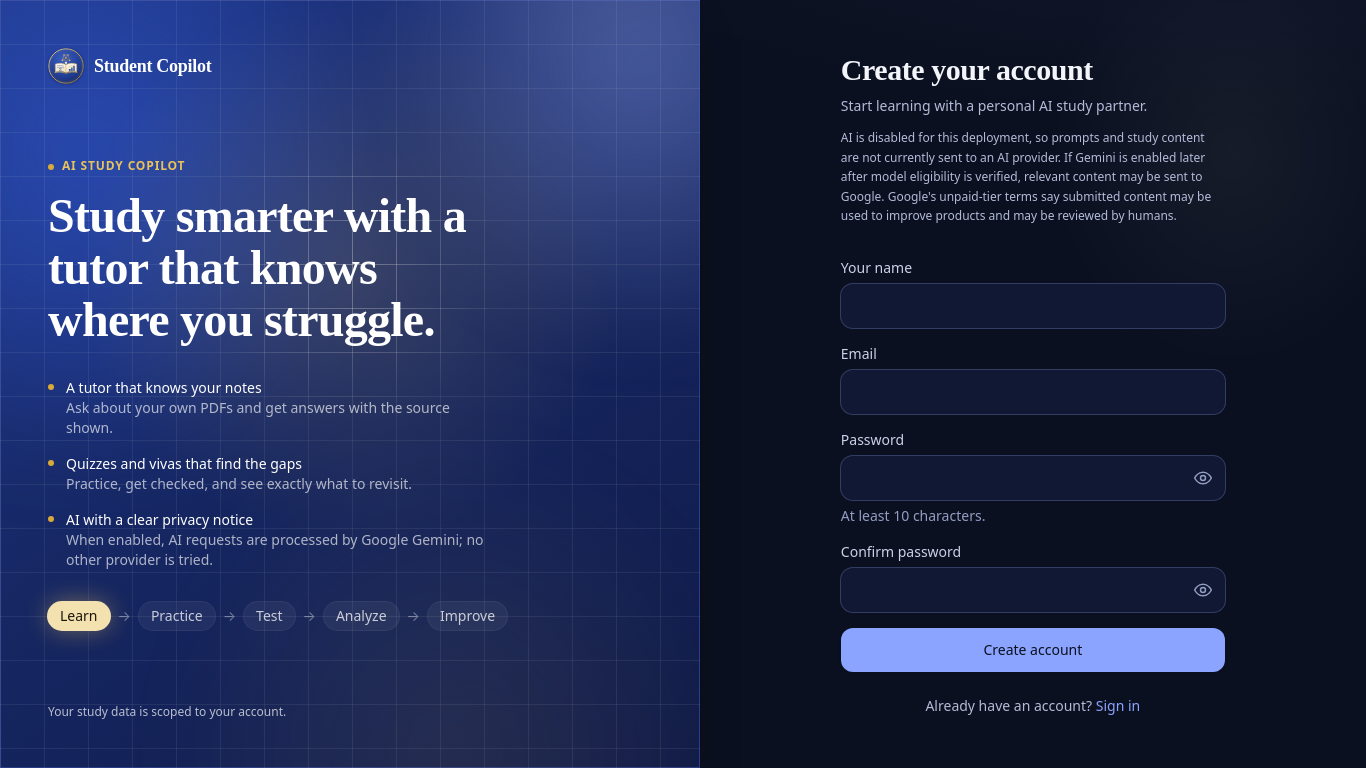
it: signup › rejects short passwords and bad emails client-side
Type "Rahul" into the field labelled "Your name" at (1033, 306), box [841,284,1225,328]
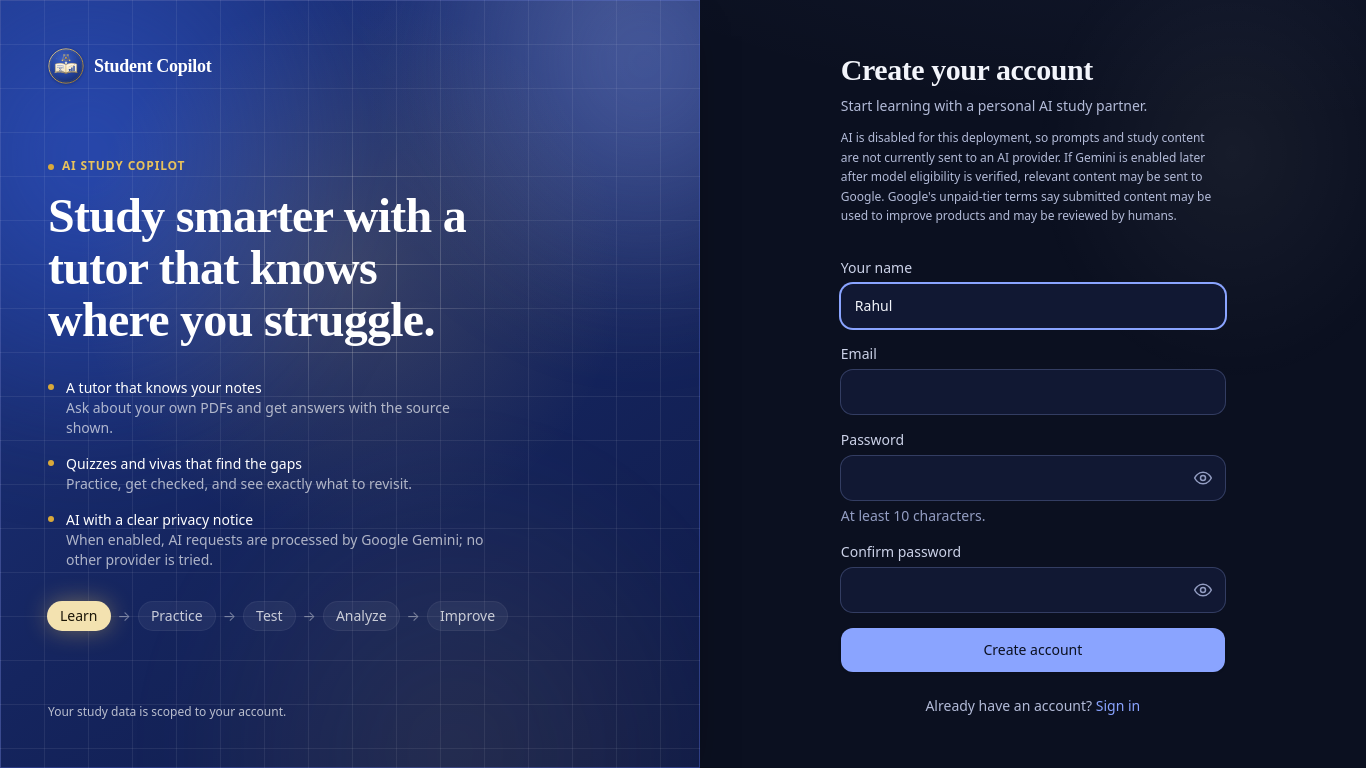
Type "not-an-email" into the field labelled "Email" at (1033, 392), box [841,370,1225,414]
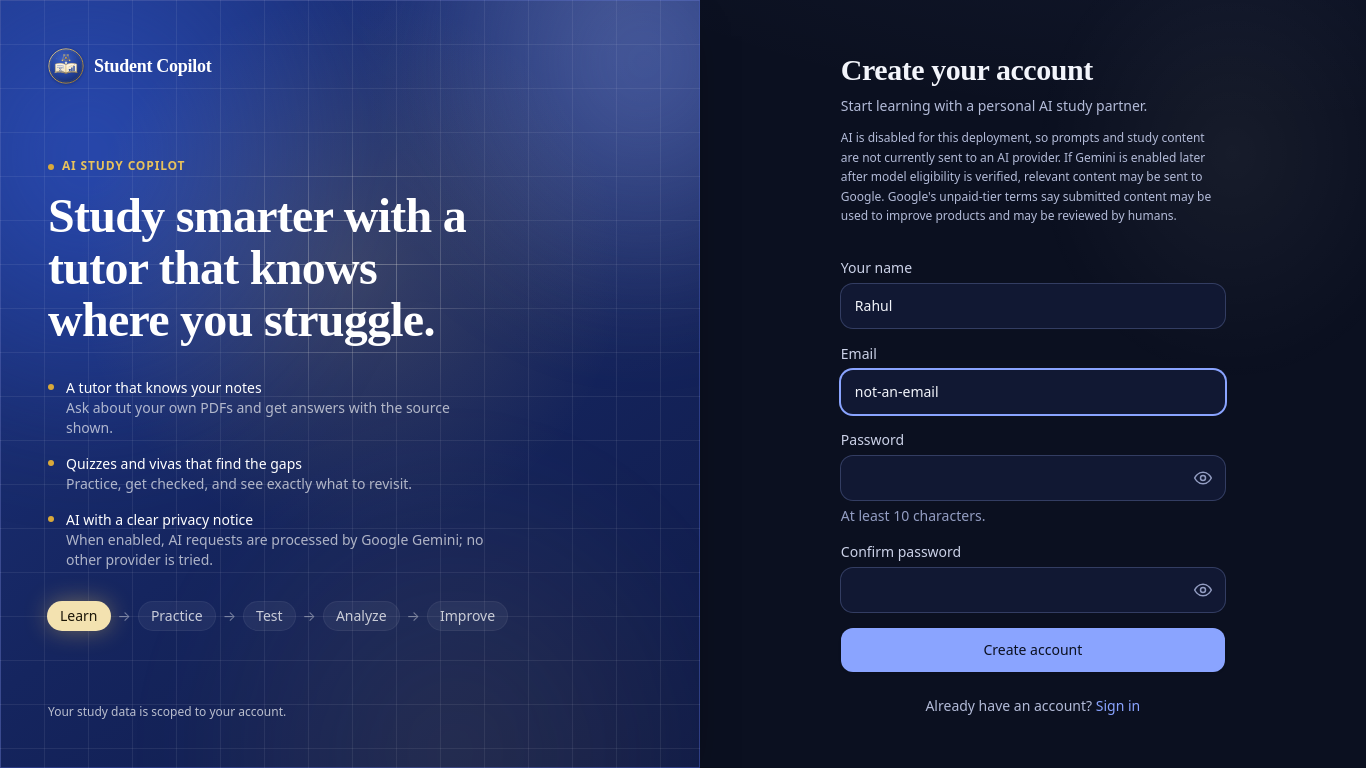
Type "short" into the password field labelled "Password" at (1033, 478), box [841,456,1225,500]
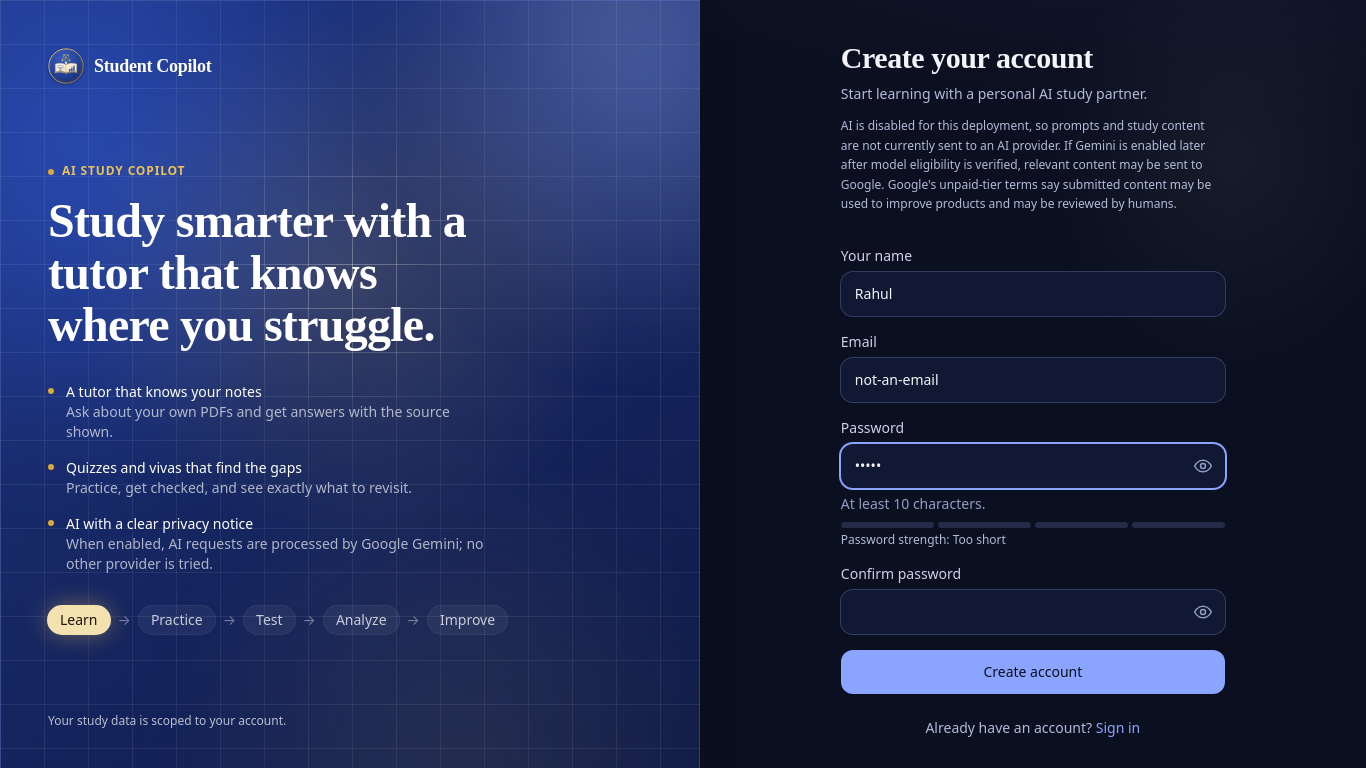
Type "short" into the password field labelled "Confirm password" at (1033, 612), box [841,590,1225,634]
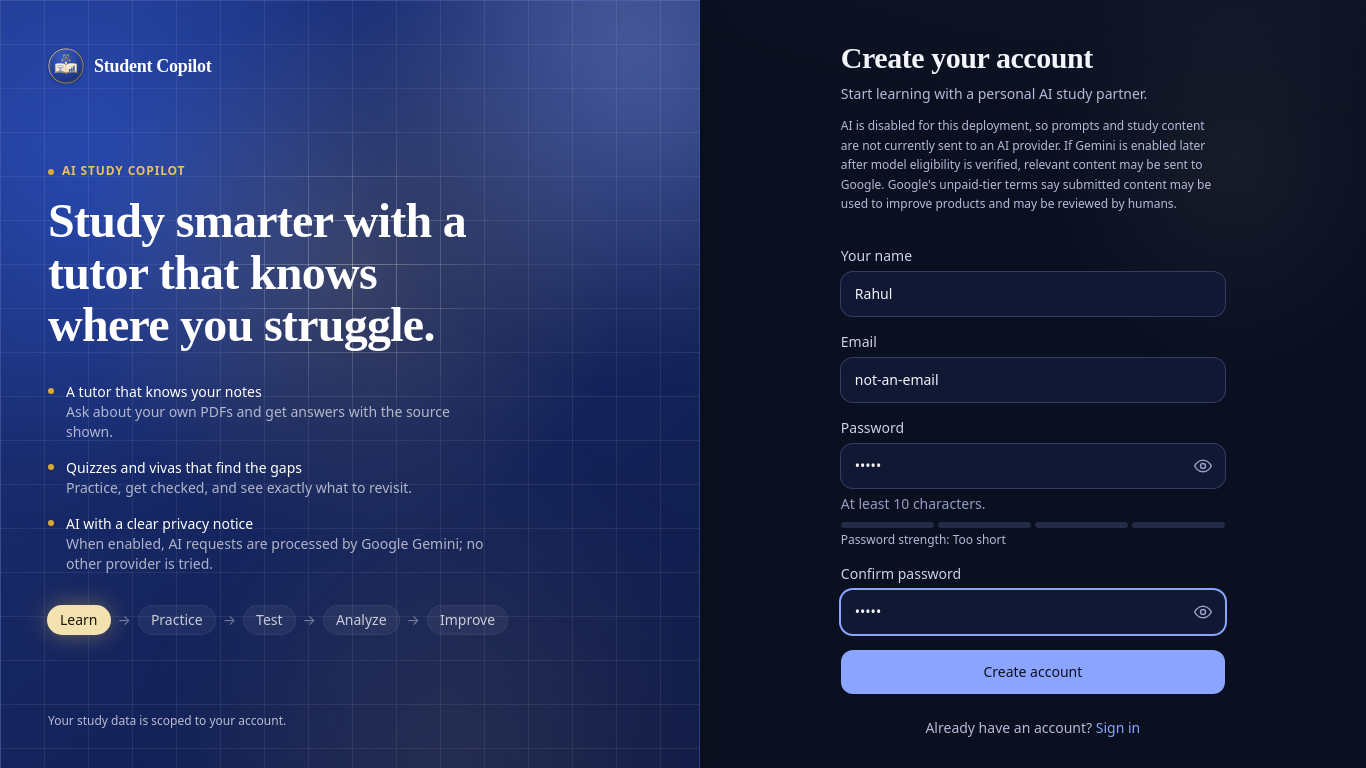
Click the button "Create account" at (1033, 672), box [841,650,1225,694]
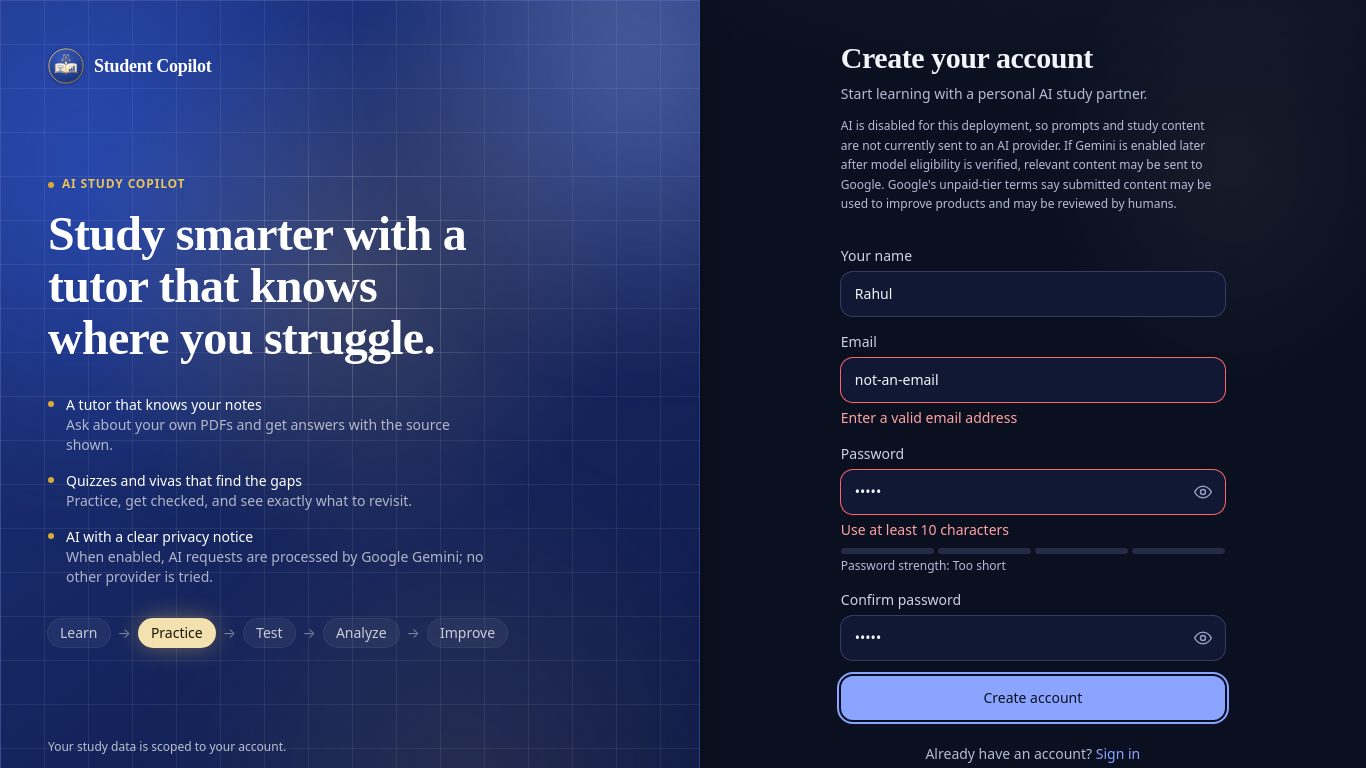
Expected: the text "Use at least 10 characters" is shown, [841,520,1009,538]
Expected: the text "Enter a valid email address" is shown, [841,408,1017,426]
